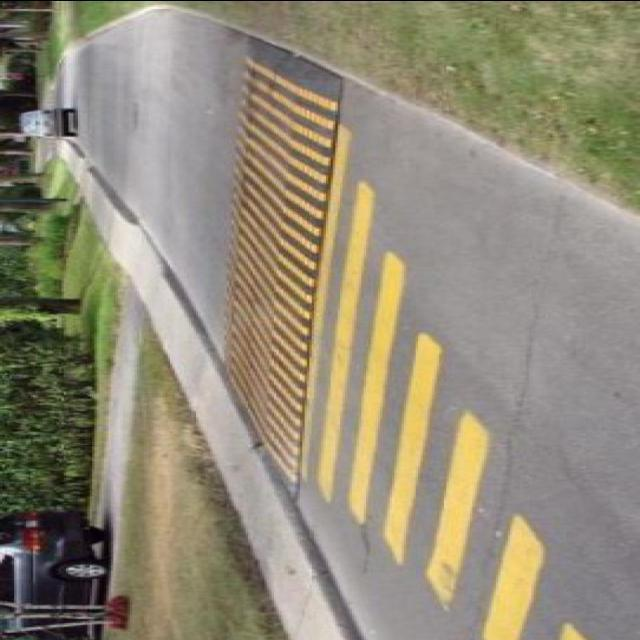Speed_Breaker: (215, 22, 355, 515), (223, 25, 345, 500)
